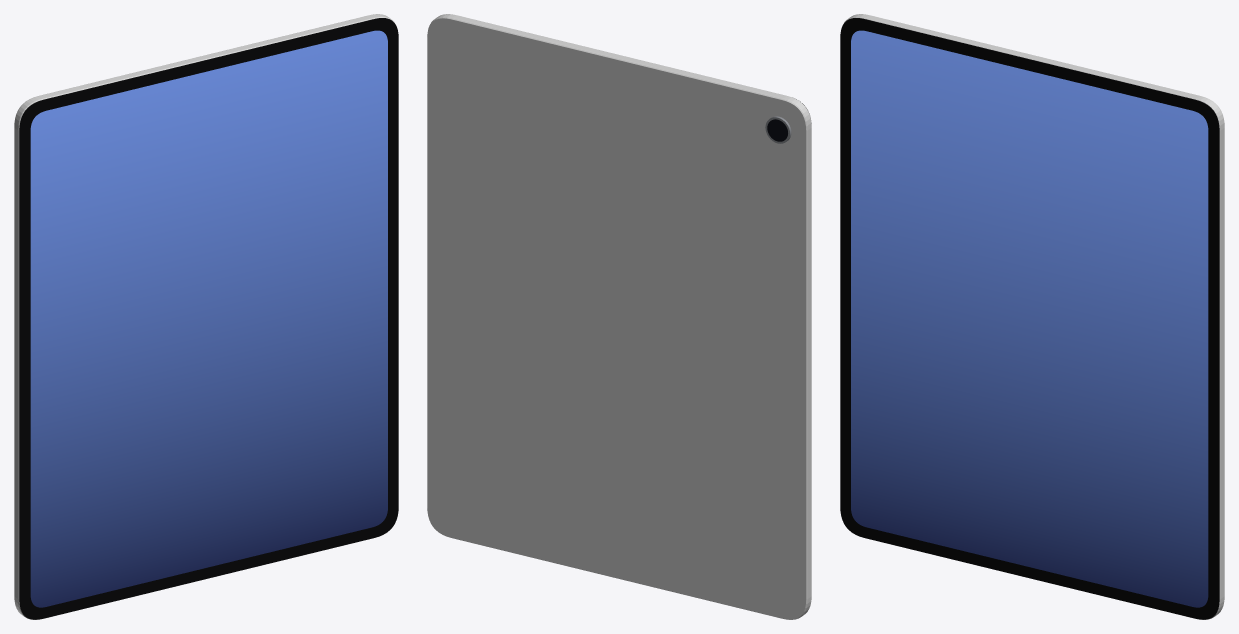
File: APL-IPADPRO13M5.glb
3 views of the same model, side by side, from view 1: azimuth 30°, elevation 25°; view 2: azimuth 150°, elevation 25°; view 3: azimuth 330°, elevation 25° (orthographic).
Parts seen in each view (by area): view 1: screen, front, body; view 2: back-plate, body; view 3: screen, front, body.
Boxes of the visible parts, x1,y1,x2,y2 form: screen: (30,30,387,607); front: (19,18,398,619); body: (14,14,397,619); back-plate: (427,18,806,619); body: (428,14,811,619); screen: (851,30,1208,607); front: (840,18,1219,619); body: (841,14,1224,619).
Size of the model in its own units: 0.2155 by 0.2816 by 0.00695.
